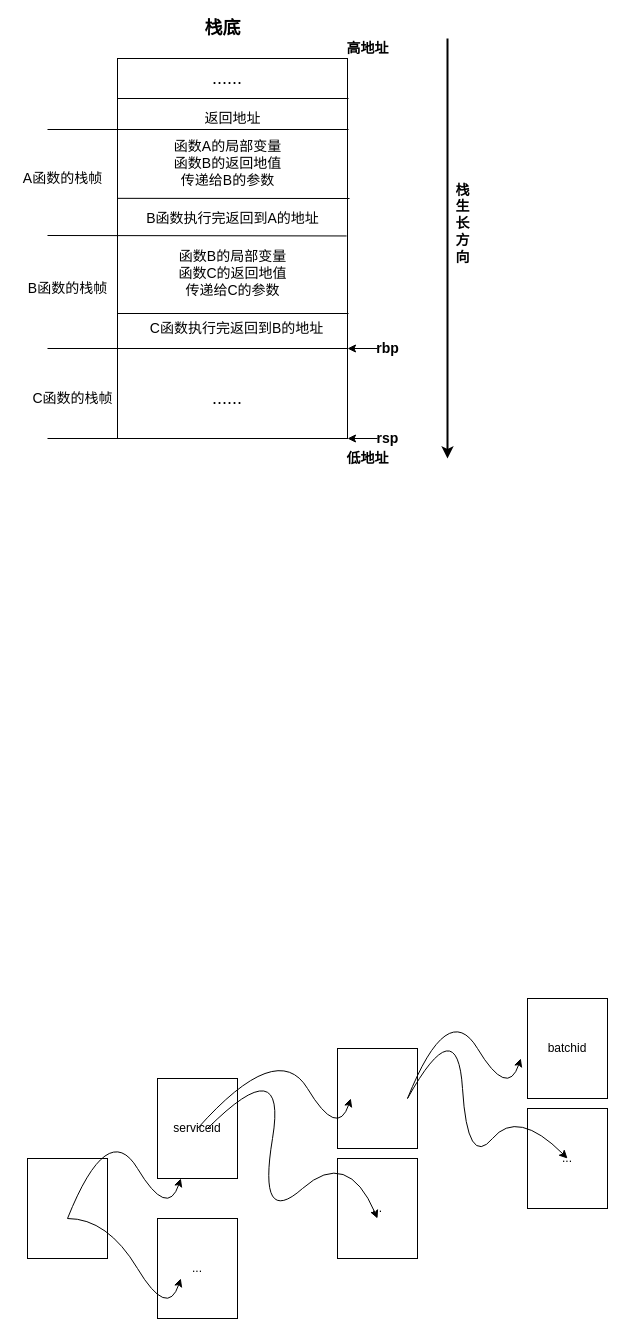
Some shapes in this 625 by 1336 pixel diagram are drawn without their labels. Here are the shapes that lost their labels. From the top down, the box of each, then its label:
(336, 1048, 418, 1148): environmentid
(26, 1158, 108, 1258): workflowid app_stackid
